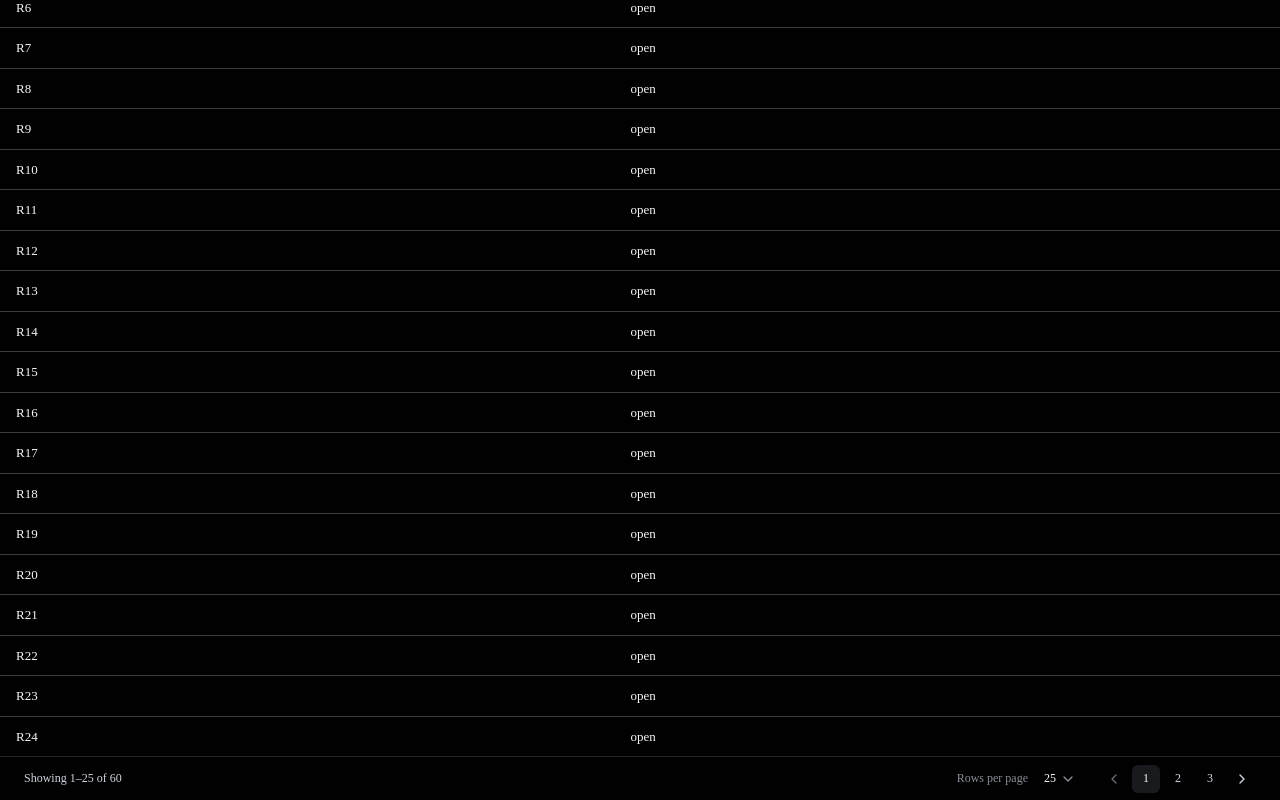
Test case: DataTable — pagination › clicks next → shows rows 26–50
(page scrolled)
Step 1. Click the button named "next" → [1242, 778], box top-left (1228, 764), bottom-right (1256, 792)
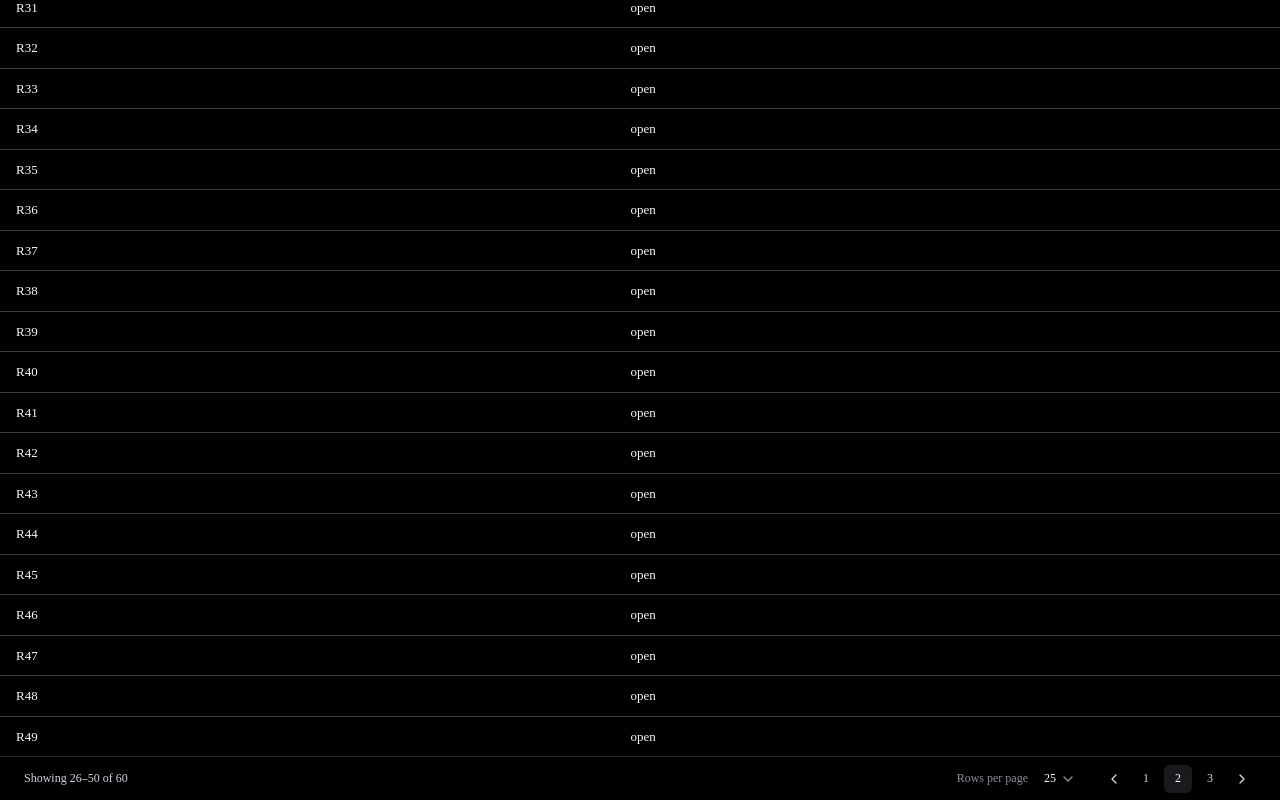
expect the text "Showing 26–50 of 60" is shown: met, box top-left (24, 770), bottom-right (128, 787)
